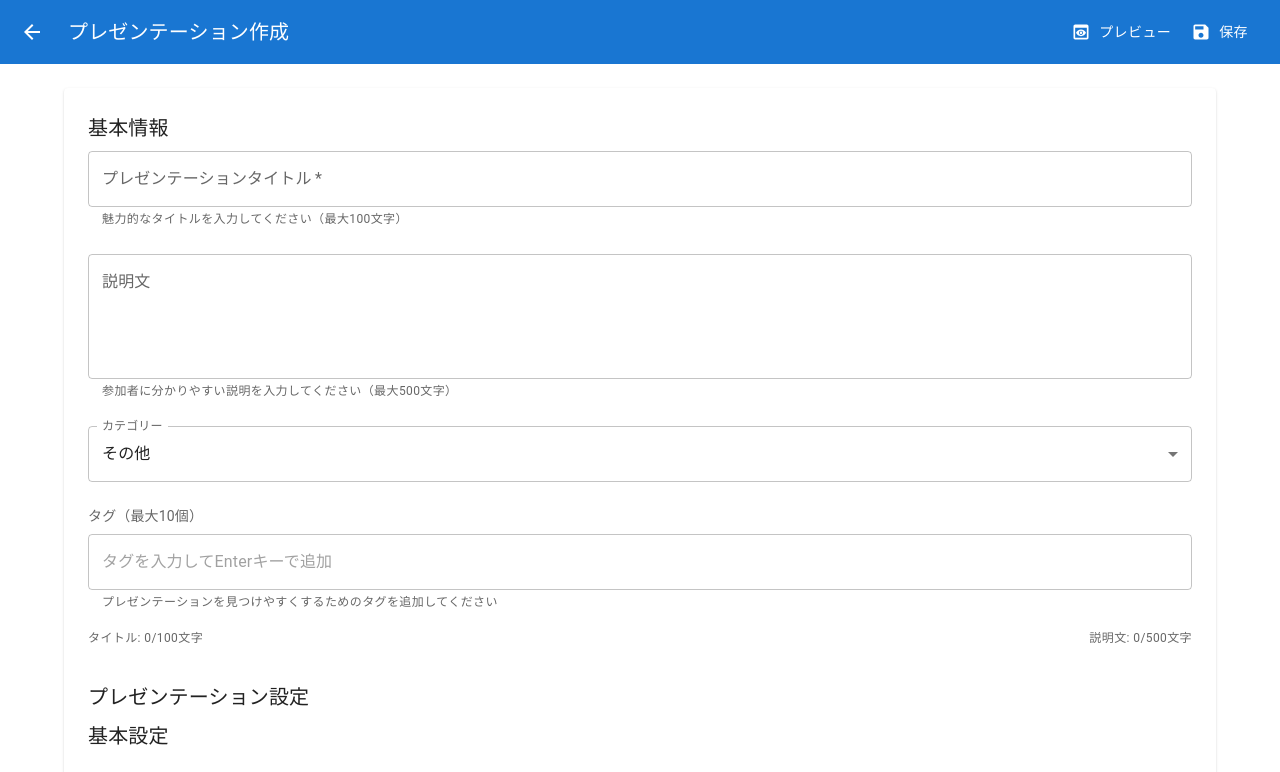
Test case: PresentationFormPage › バリデーション › タイトル未入力時にエラーが表示される
Click the button "保存" at (1222, 32), box left=1187, top=14, right=1256, bottom=50
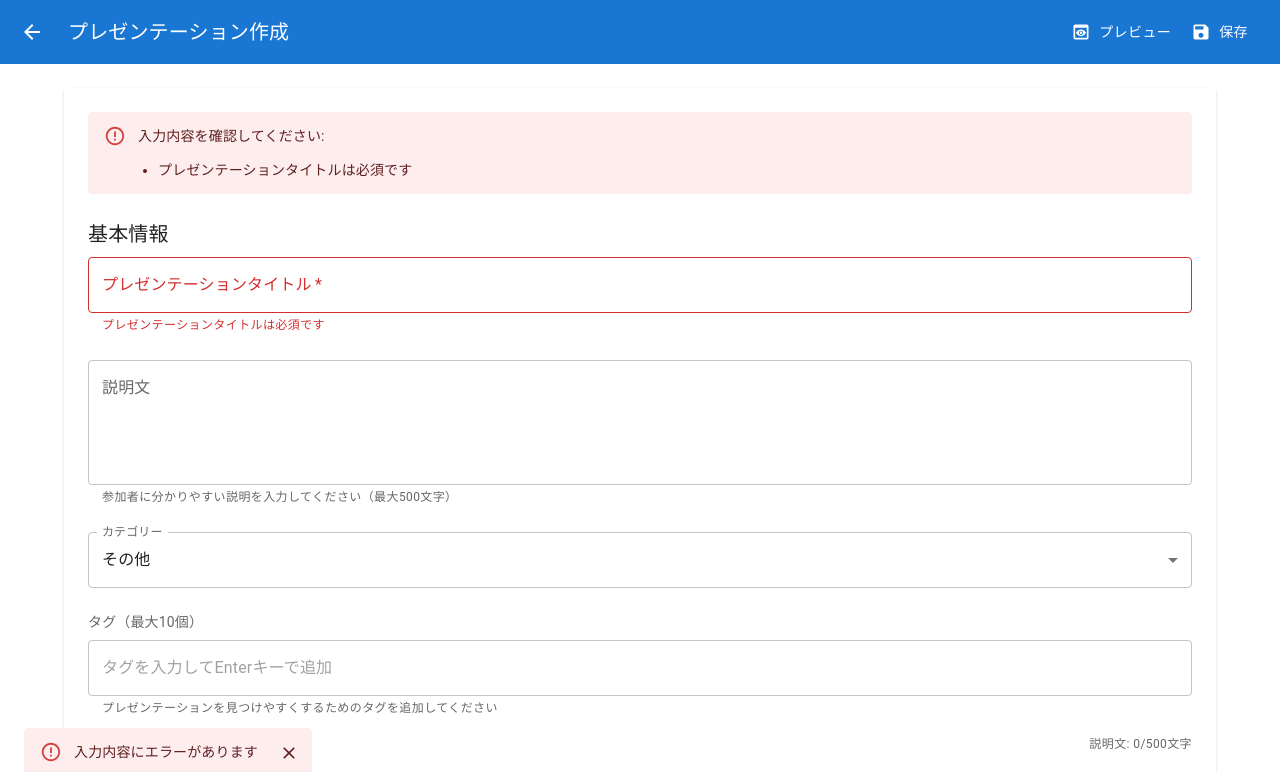
Now the list item "プレゼンテーションタイトルは必須です" is shown, box left=158, top=160, right=412, bottom=180
